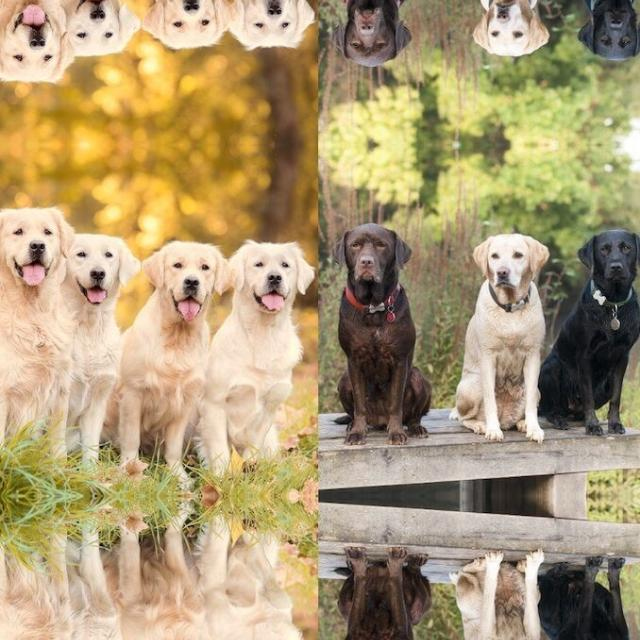dog: (338, 207, 440, 479), (444, 216, 542, 474), (220, 230, 312, 494), (542, 201, 640, 444), (136, 220, 222, 480), (53, 207, 135, 476), (338, 511, 440, 640), (220, 496, 311, 640), (444, 516, 542, 640), (136, 510, 221, 640), (53, 515, 135, 640), (542, 546, 640, 640), (542, 0, 640, 87), (338, 0, 440, 81), (444, 0, 542, 71), (53, 0, 135, 81), (136, 0, 221, 68), (220, 0, 311, 58)
